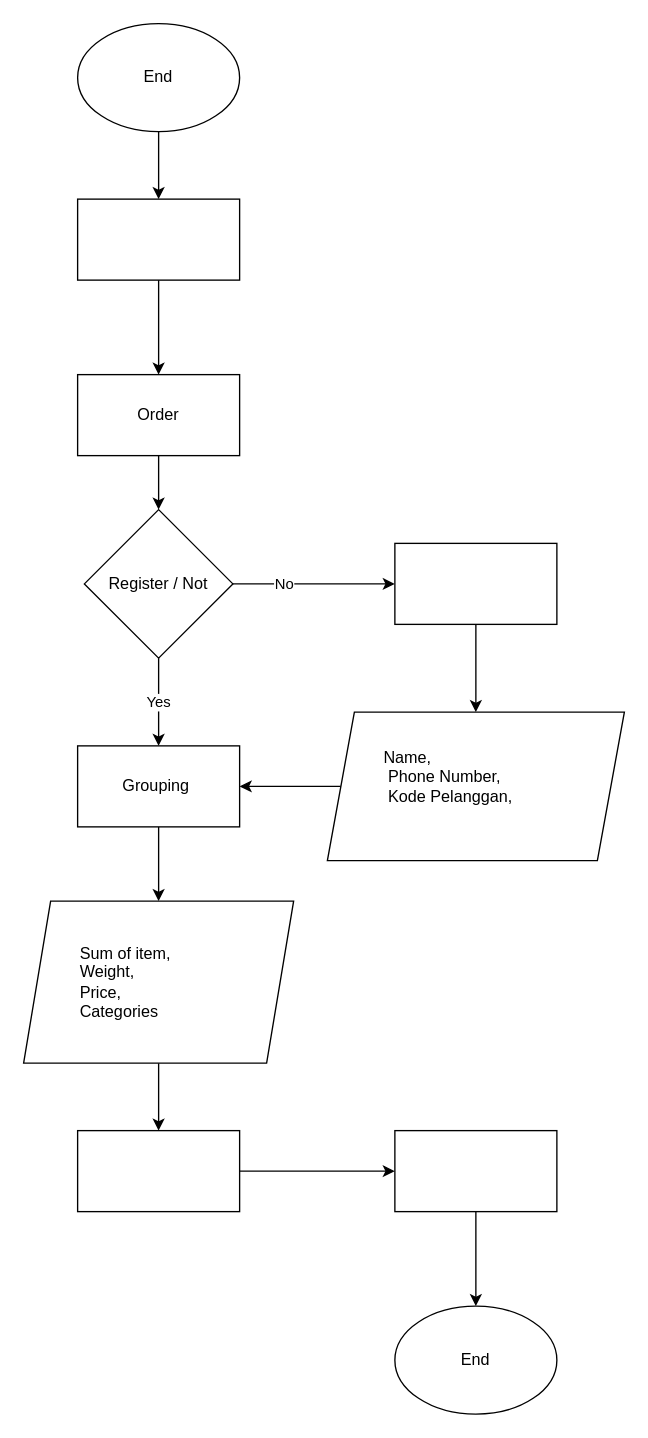
Some shapes in this 648 by 1438 pixel diagram are drawn without their labels. Each missing label, with the centre of its shape:
Pelanggan: the point at 158,239
Proses: the point at 475,1170
Register: the point at 475,583
Report Customer: the point at 158,1170
